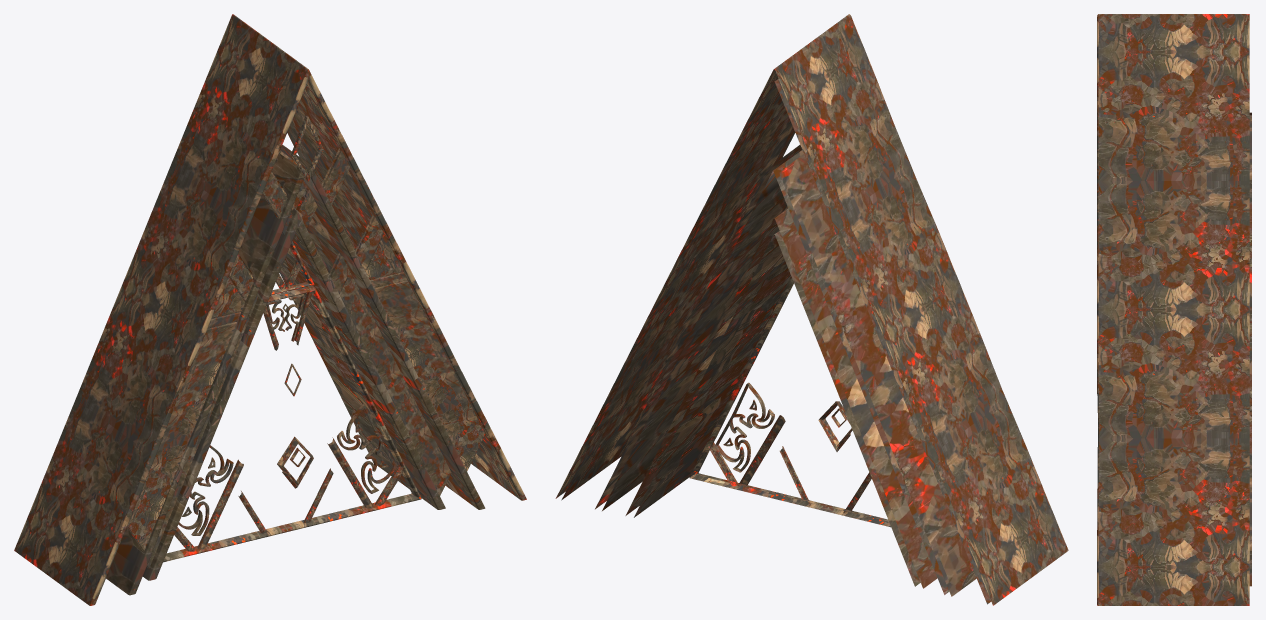
3 renders of one model, left to right at view 1: azimuth 30°, elevation 25°; view 2: azimuth 150°, elevation 25°; view 3: azimuth 270°, elevation 25°, orthographic.
Visible parts, largest first — view 1: SM_KotHaar_Hur_LOD0; view 2: SM_KotHaar_Hur_LOD0; view 3: SM_KotHaar_Hur_LOD0.
Boxes of the visible parts, x1,y1,x2,y2 form: SM_KotHaar_Hur_LOD0: (14, 14, 526, 605); SM_KotHaar_Hur_LOD0: (555, 14, 1068, 605); SM_KotHaar_Hur_LOD0: (1097, 14, 1251, 605).
Bounding box in the file's own units: 58.11 × 61.34 × 17.76.
